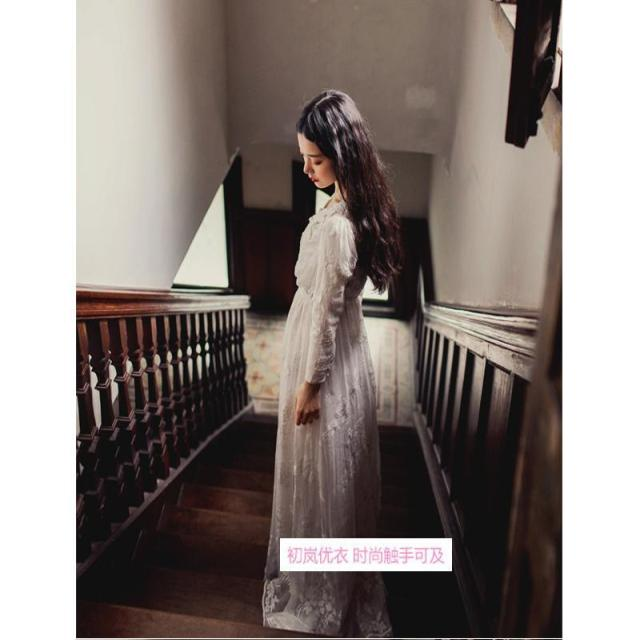long sleeve dress: (265, 190, 392, 637)
